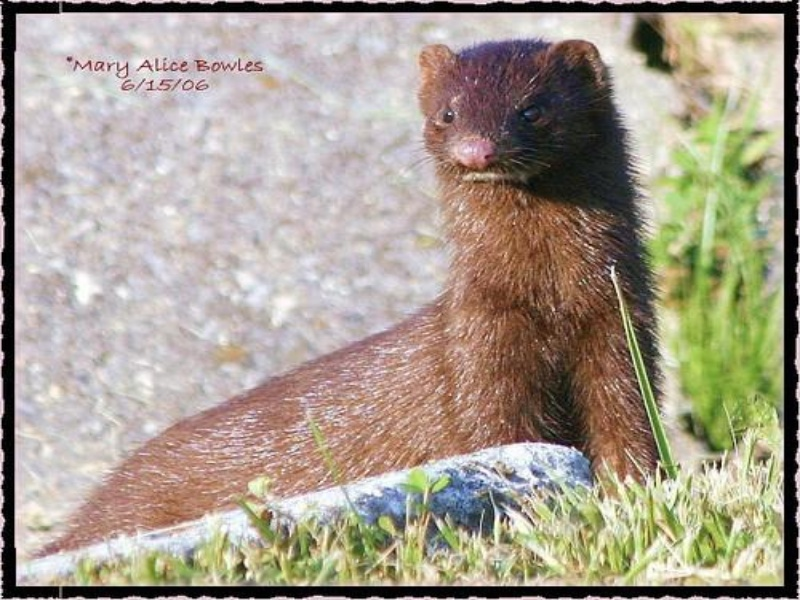minkish: (28, 32, 666, 565)
